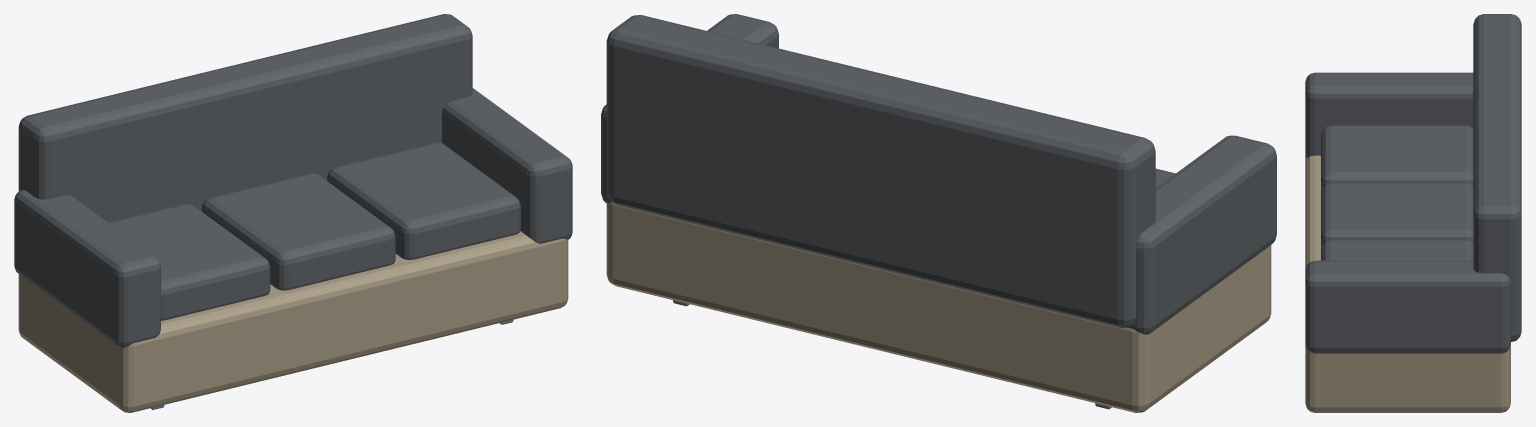
File: BL_LoungeSofa.fbx
3 renders of one model, left to right at view 1: azimuth 30°, elevation 25°; view 2: azimuth 150°, elevation 25°; view 3: azimuth 270°, elevation 25°, orthographic. The views are drawn at different scales.
Parts seen in each view (by area): view 1: BL_LoungeSofa_LOD0; view 2: BL_LoungeSofa_LOD0; view 3: BL_LoungeSofa_LOD0.
Part boxes in pixels (x1,y1,x2,y2): BL_LoungeSofa_LOD0: [14, 14, 572, 412]; BL_LoungeSofa_LOD0: [601, 14, 1276, 412]; BL_LoungeSofa_LOD0: [1305, 14, 1521, 412].
Size of what is drawn, in the model's own units: 204 by 99 by 89.5.
